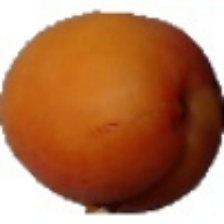apricot: (56, 25, 209, 163)
